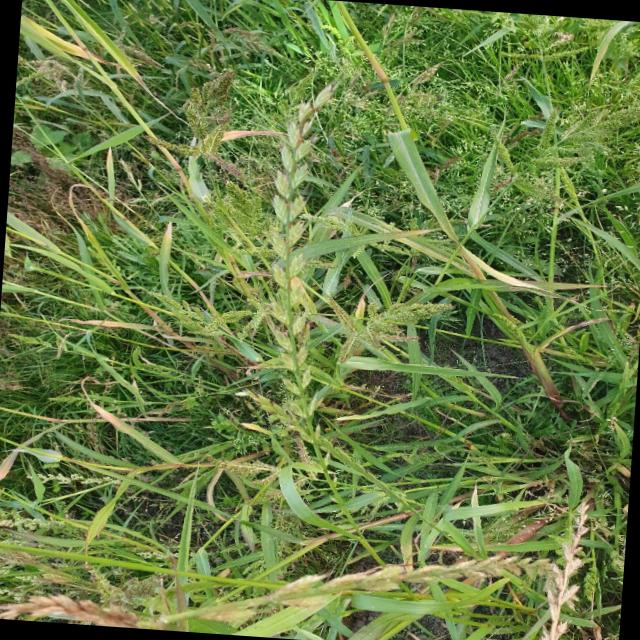Lolium: (138, 527, 554, 640), (254, 82, 338, 493), (510, 497, 598, 640)
